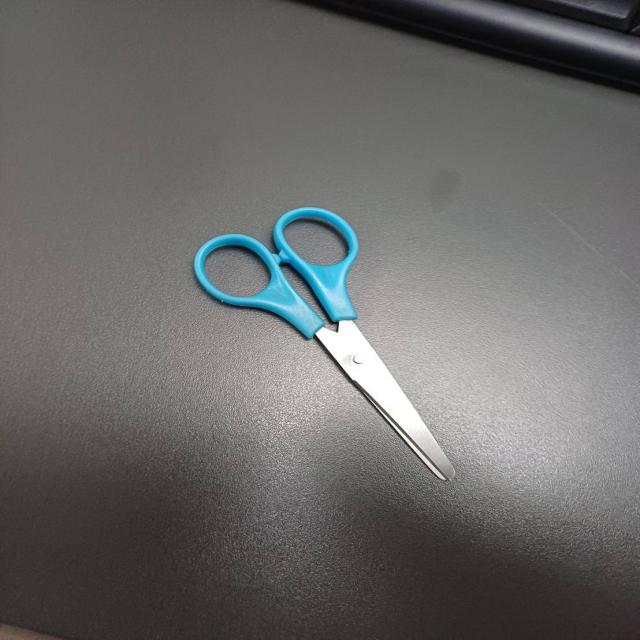scissors: (194, 207, 455, 480)
